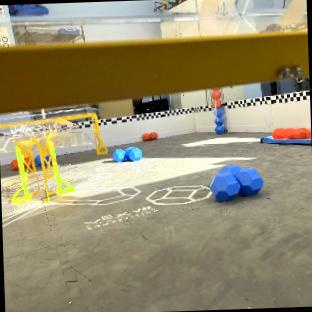V5_BLUE: (210, 166, 263, 200), (113, 147, 142, 161)
V5_RED: (272, 128, 311, 139), (212, 89, 220, 107), (11, 159, 18, 171), (149, 132, 157, 140)
